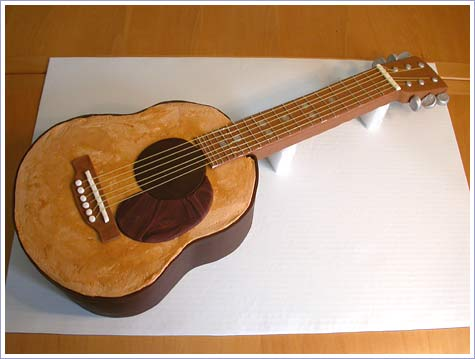guitar: (10, 53, 448, 318)
